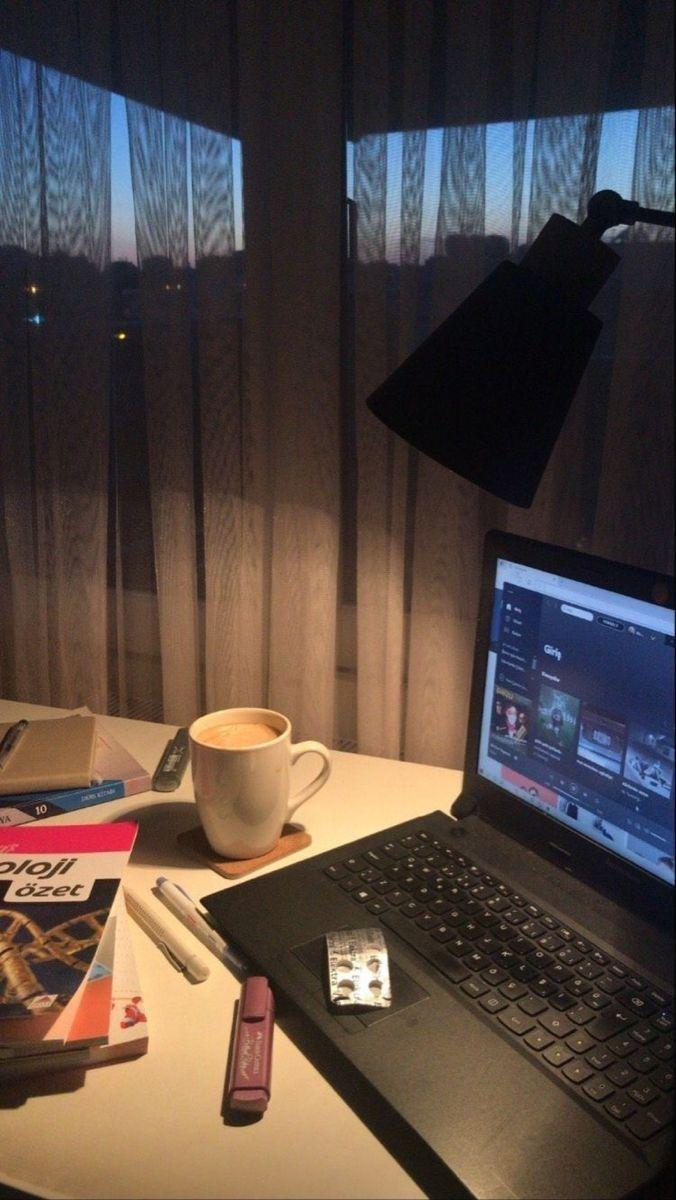cup-handle: (188, 705, 331, 860)
